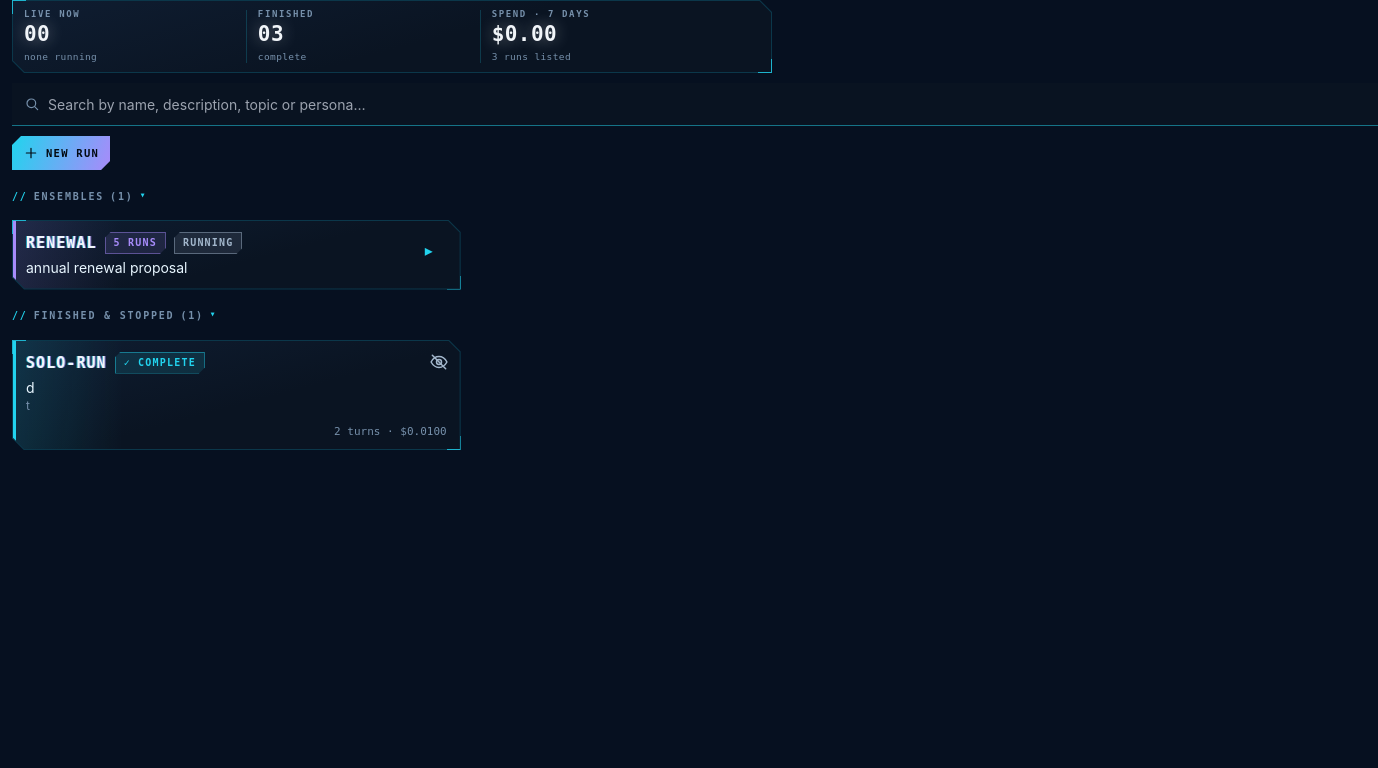
Test: History — ensembles fold their own conversations › keeps members out of the individual list, folded under their ensemble
The width and height of the screenshot is (1378, 768).
expect the text "solo-run" is shown: met, box 26,354 -> 107,372
expect the text "renewal" is shown: met, box 26,234 -> 97,252
Click the button named "Show the conversations in renewal". click: x=429, y=250
box: 411,232 -> 447,268
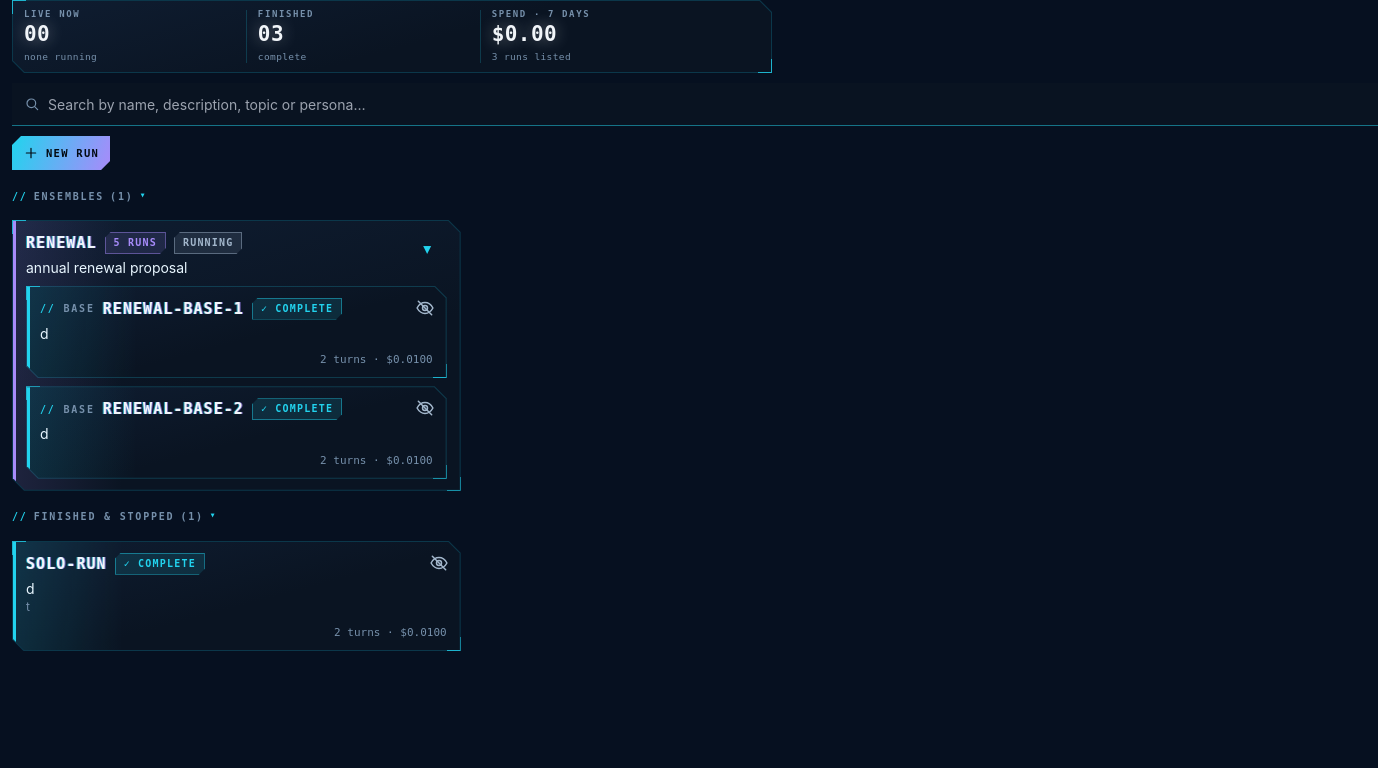
expect the text "renewal-base-1" is shown: met, box 103,300 -> 244,318
expect the text "renewal-base-2" is shown: met, box 103,400 -> 244,418
Click the button named "Hide the conversations in renewal". click: x=429, y=250
box: 411,232 -> 447,268
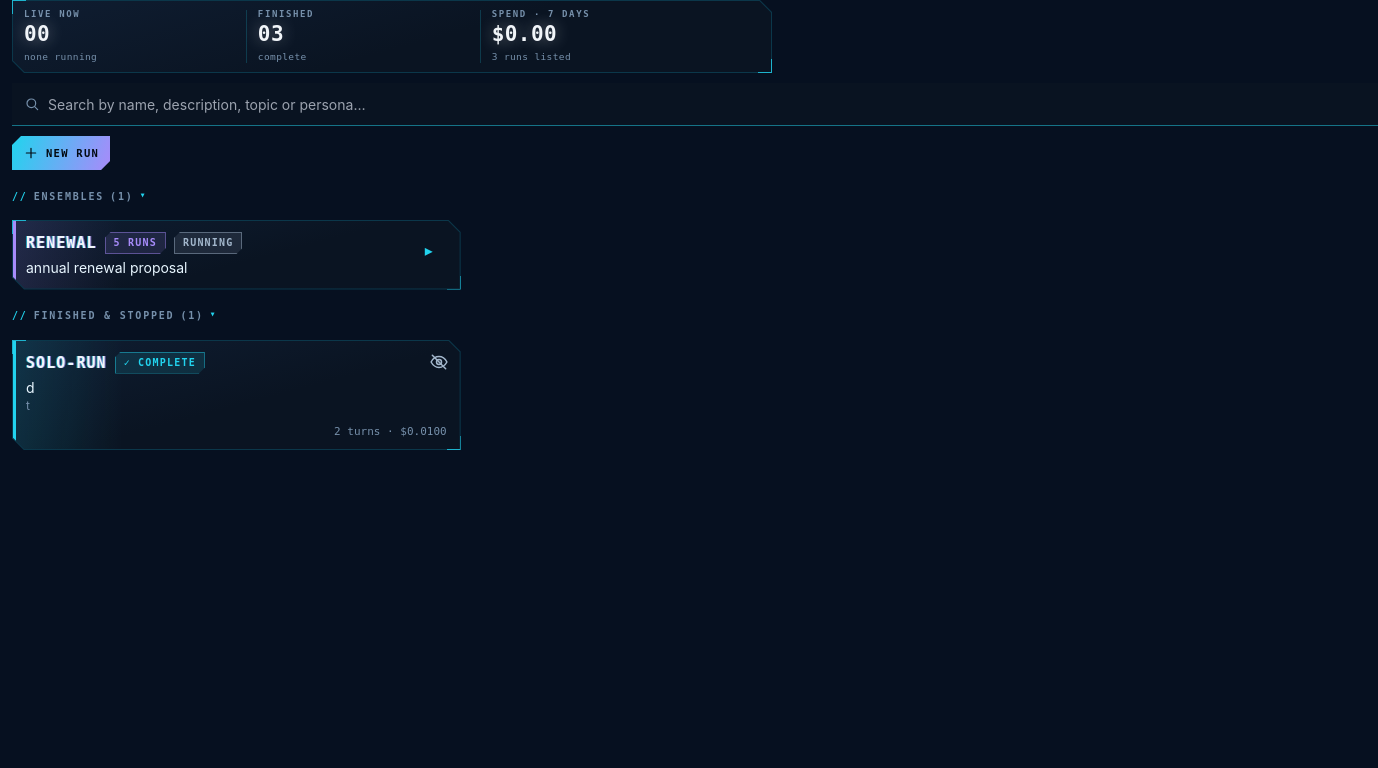
expect the button "renewal-base-1" is gone: met
